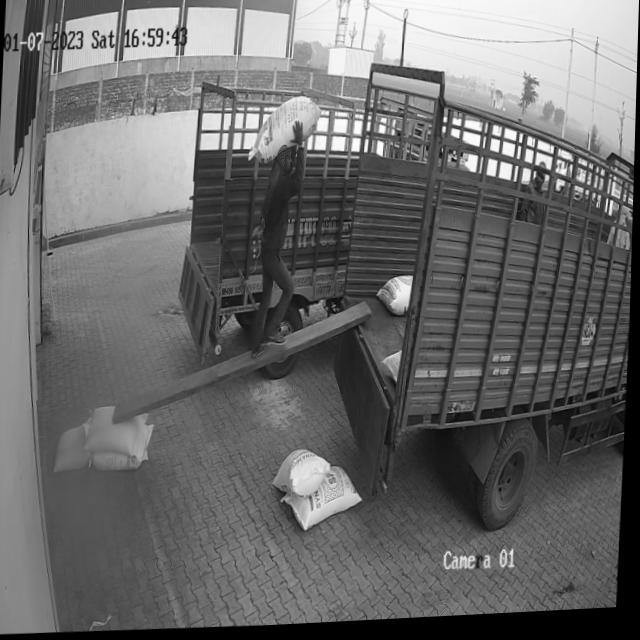sack: (283, 465, 365, 536), (247, 98, 323, 166), (87, 405, 151, 458), (275, 449, 333, 503), (92, 424, 154, 473), (55, 425, 95, 474)
